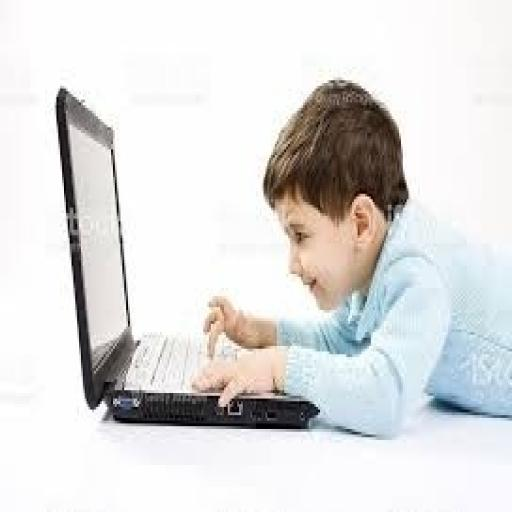using_laptop: (53, 80, 320, 429)
